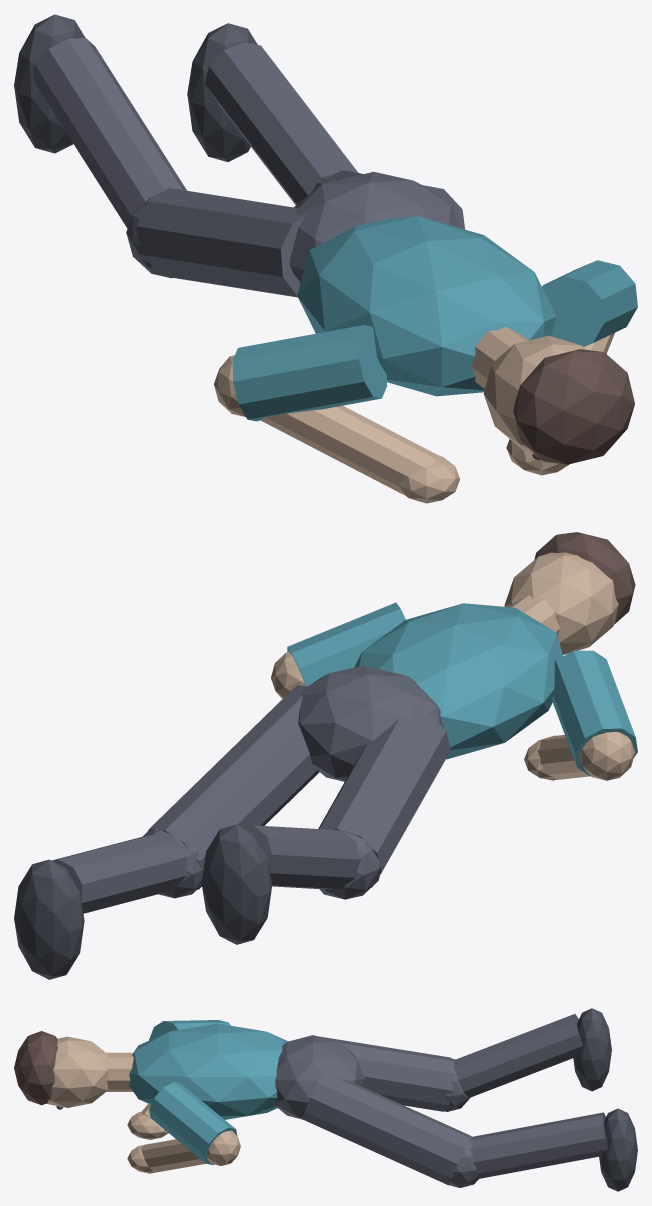
3 renders of one model, top to bottom at view 1: azimuth 30°, elevation 25°; view 2: azimuth 150°, elevation 25°; view 3: azimuth 270°, elevation 25°, orthographic. The views are drawn at different scales.
Parts seen in each view (by area): view 1: world; view 2: world; view 3: world.
Boxes of the visible parts, <box> form: world: <box>14,14,637,503</box>; world: <box>14,532,637,979</box>; world: <box>14,1008,637,1191</box>.
Size of the model in its own units: 0.93 by 0.4628 by 2.04.
